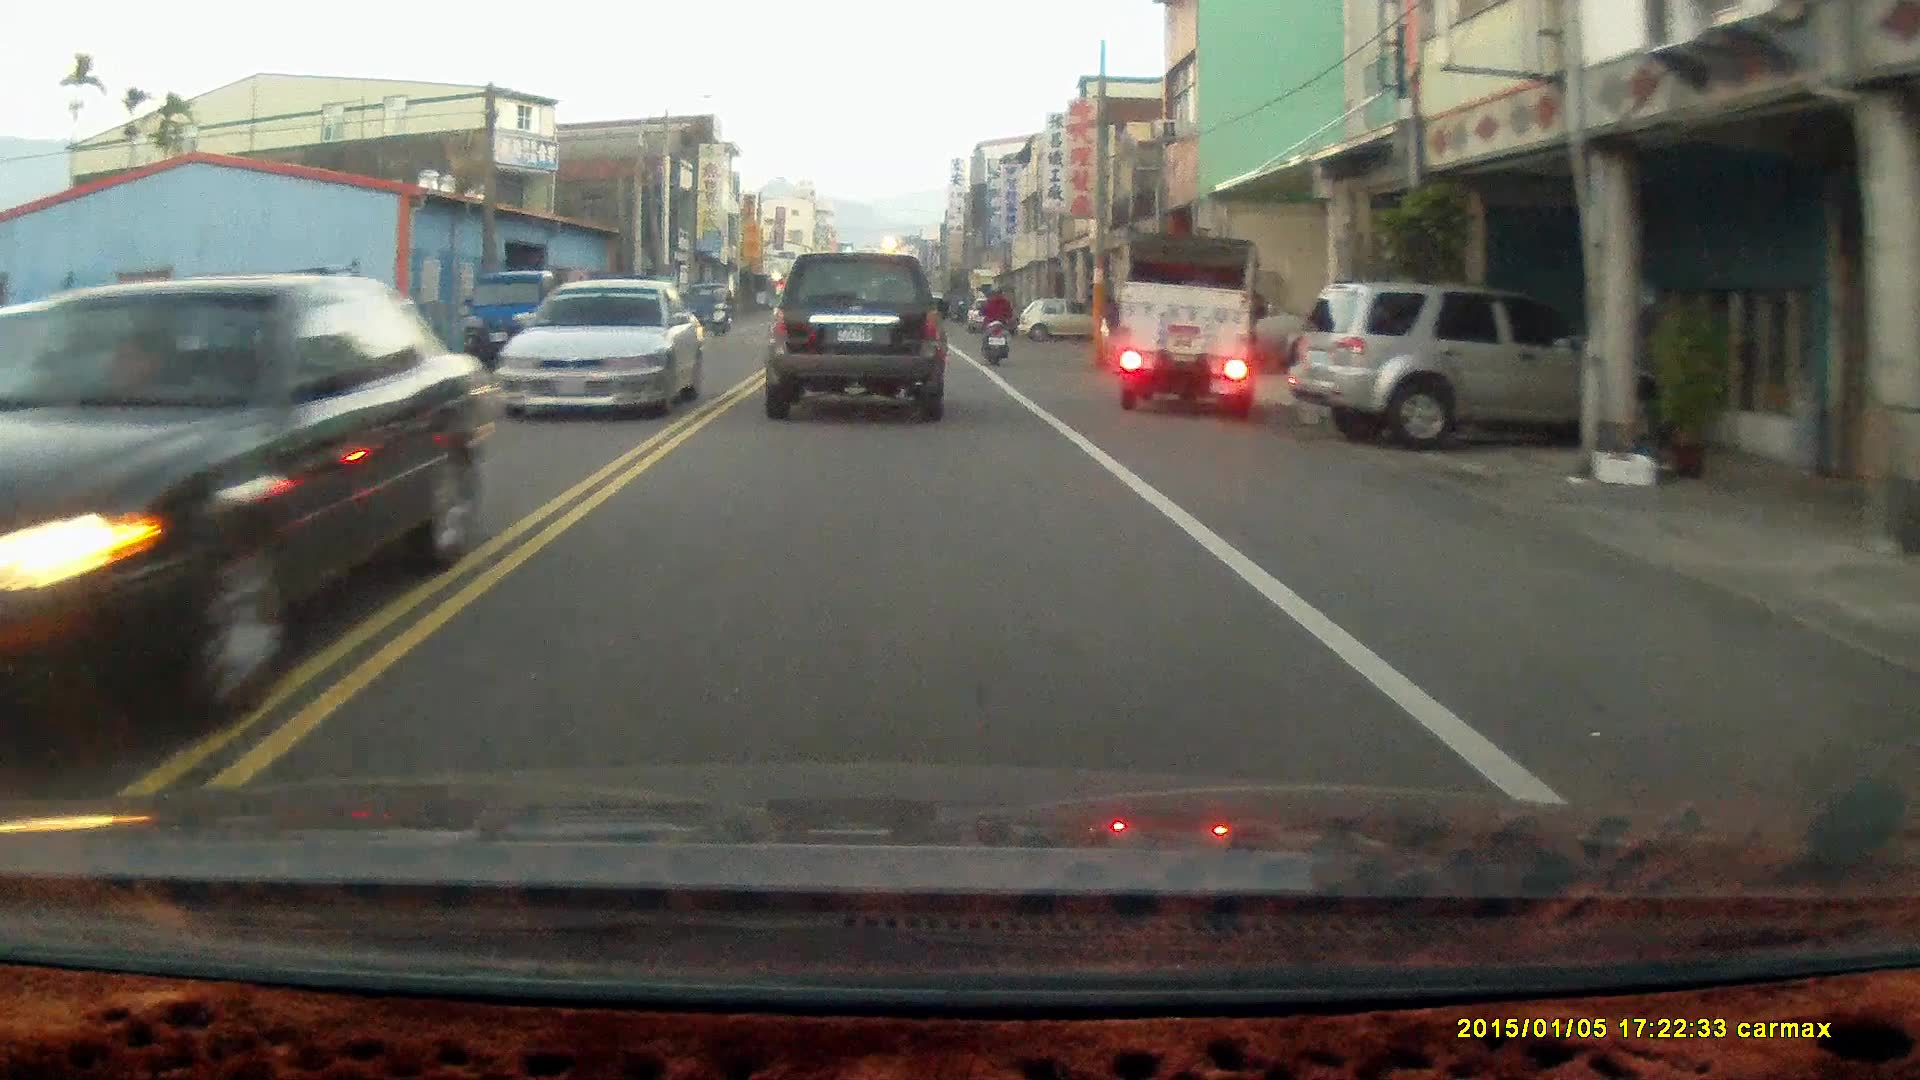pedestrian: (1098, 287, 1128, 373)
rider: (976, 282, 1013, 368), (708, 282, 736, 337)
vehicle: (1, 272, 501, 730), (1297, 279, 1597, 449), (766, 253, 949, 425), (501, 277, 700, 421), (1118, 232, 1261, 413), (460, 271, 598, 388), (1020, 295, 1092, 347)
